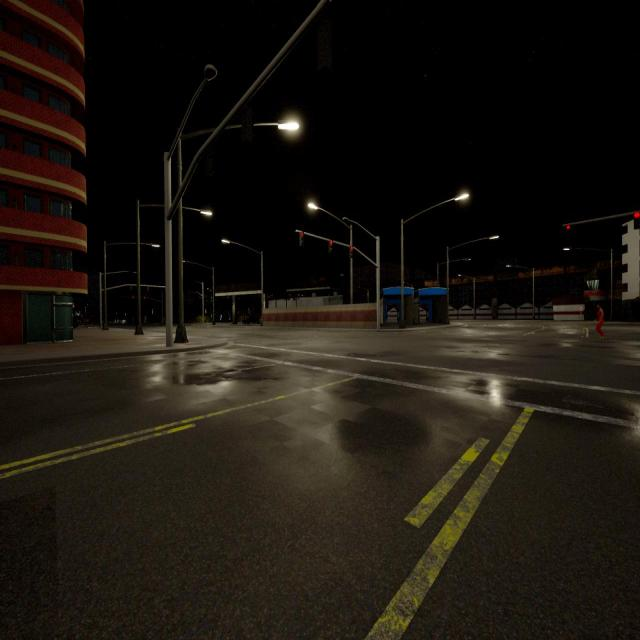Pedestrian: (595, 303, 604, 340)
Vehicle: (240, 312, 260, 323)
traffic_light: (314, 19, 326, 66), (242, 100, 253, 138), (300, 232, 304, 246), (329, 240, 333, 253), (349, 246, 353, 258), (634, 211, 640, 219), (566, 224, 570, 230), (147, 286, 149, 292), (130, 286, 132, 290), (144, 296, 146, 299), (132, 296, 134, 298)
